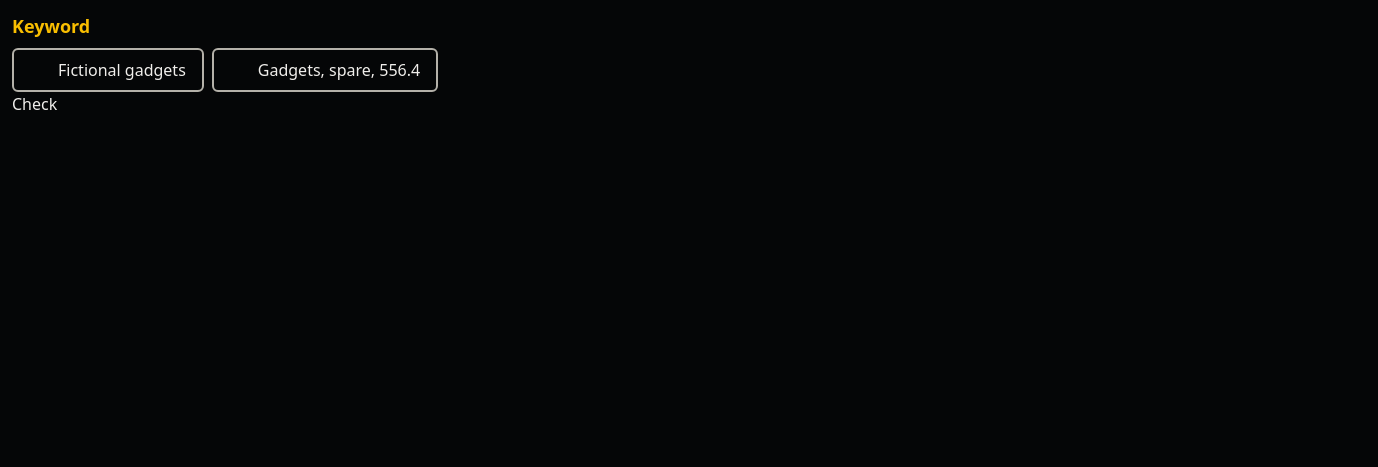
Test: StepFlow under Index Keyword Lookup › clears the second Index click and every later pick when the first changes
Later steps or results of the test are not shown.
What coordinates should you click on to do the following:
click the button "Fictional gadgets"
I would click on:
 (108, 70)
Its box is [12,48,204,92].
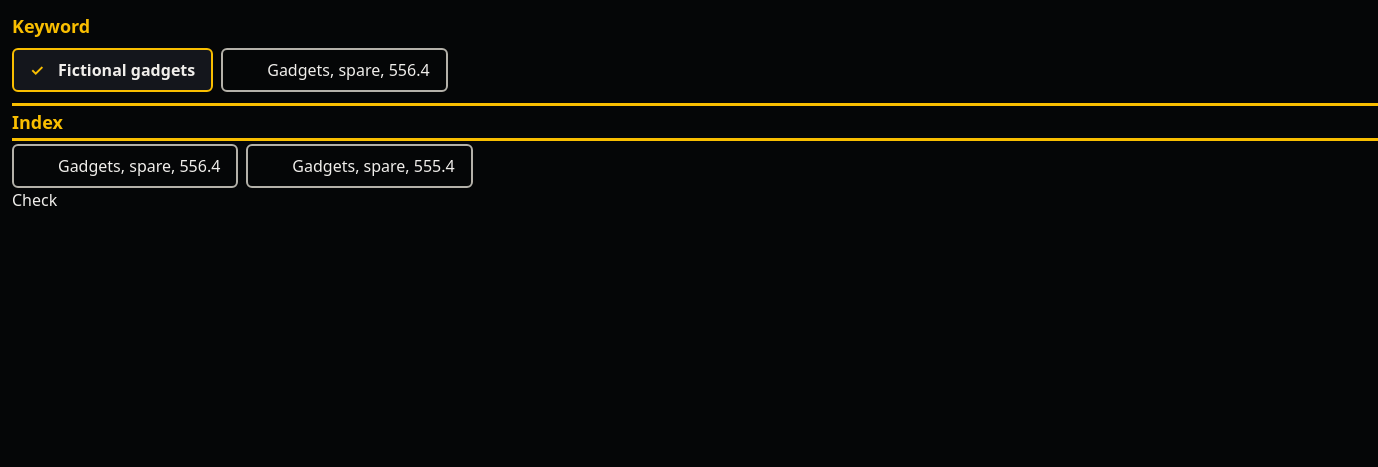
What coordinates should you click on to do the following:
click the button "Gadgets, spare, 555.4"
I would click on:
 (360, 166)
Its box is [246,144,473,188].
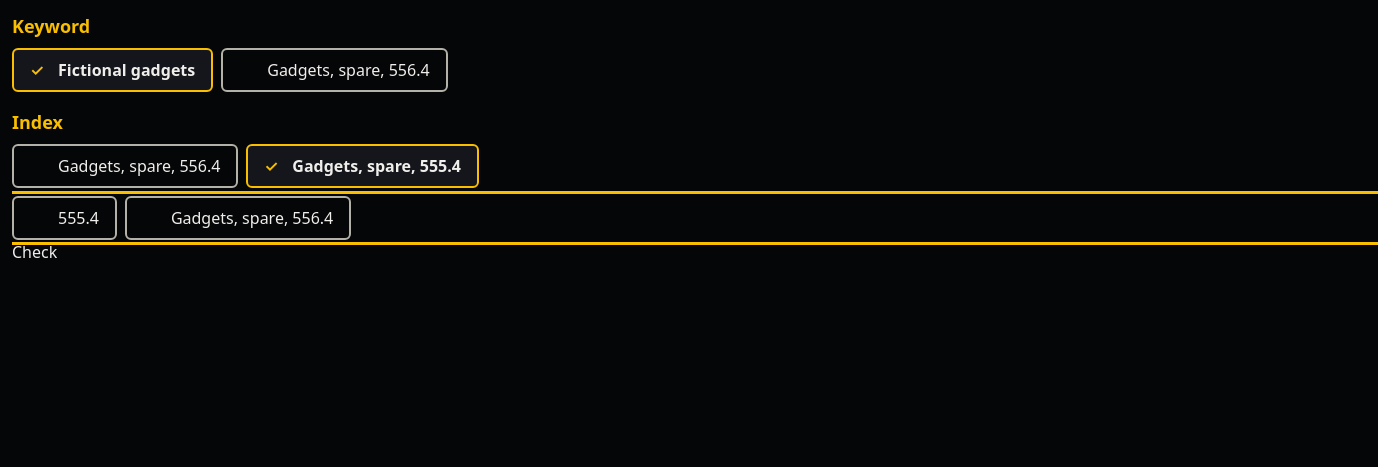
What coordinates should you click on to do the following:
click the button "555.4"
I would click on:
 (64, 218)
Its box is [12,196,117,240].
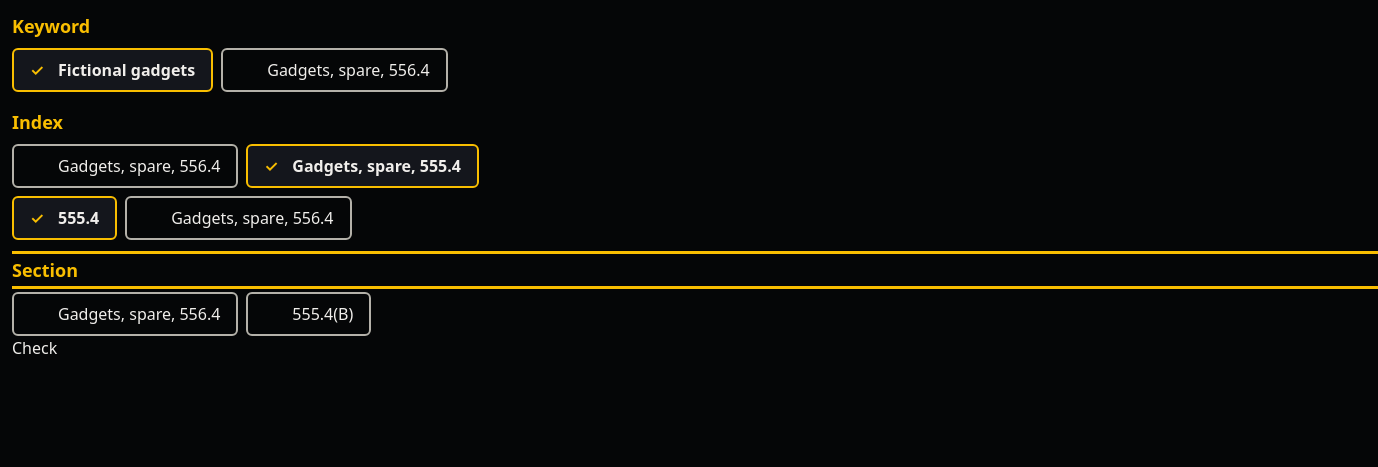
What coordinates should you click on to do the following:
click the button "555.4(B)"
I would click on:
 (309, 314)
Its box is [246,292,371,336].
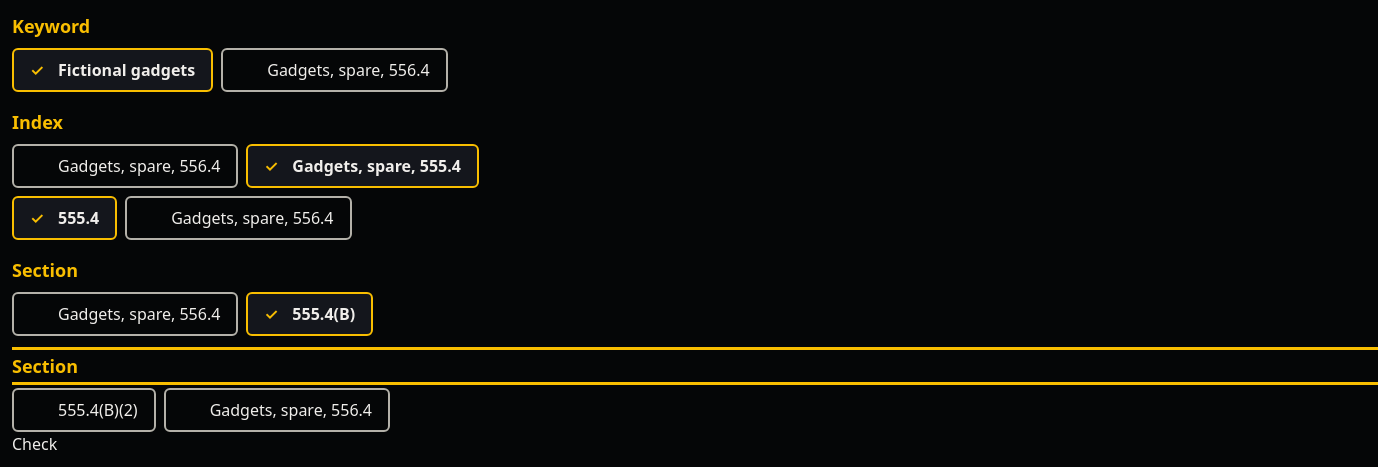
What coordinates should you click on to do the following:
click the button "555.4(B)(2)"
I would click on:
 (84, 410)
Its box is [12,388,156,432].
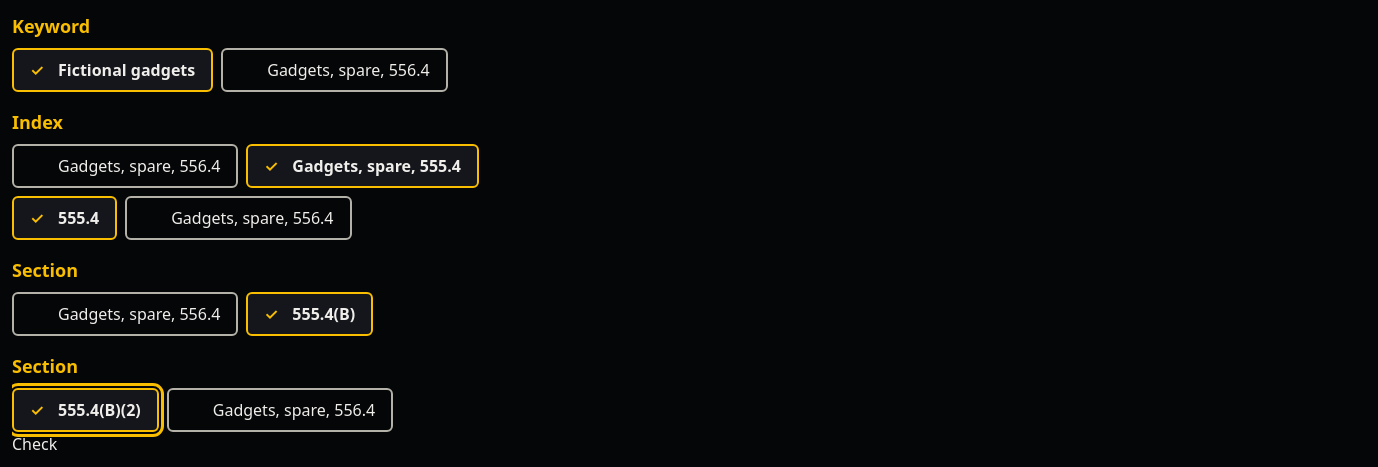
What coordinates should you click on to do the following:
click the 2nd button "Gadgets, spare, 556.4"
I would click on:
 (125, 166)
Its box is [12,144,238,188].
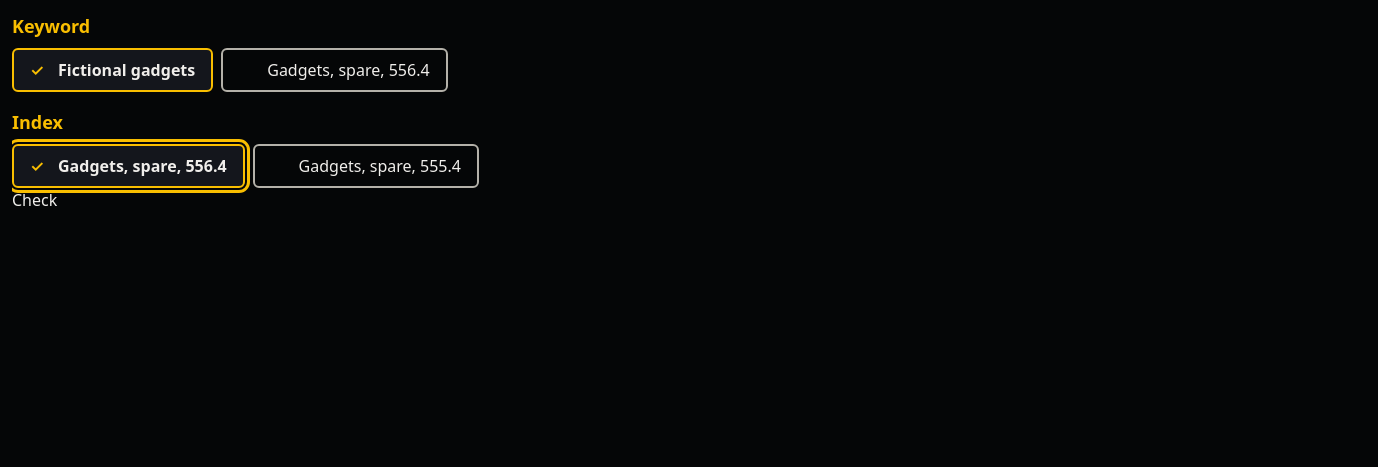
Expected: the button "Check" is enabled, [12,188,57,212]
